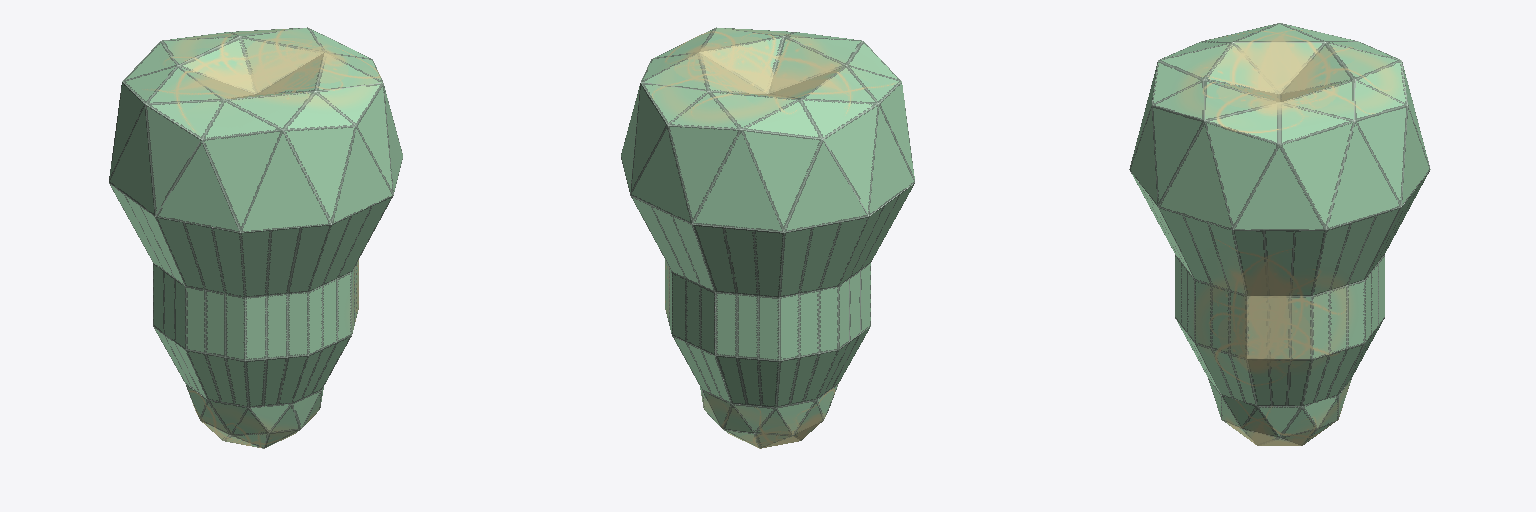
3 renders of one model, left to right at view 1: azimuth 30°, elevation 25°; view 2: azimuth 150°, elevation 25°; view 3: azimuth 270°, elevation 25°, orthographic.
Parts seen in each view (by area): view 1: Icosphere; view 2: Icosphere; view 3: Icosphere.
Part boxes in pixels (x1,y1,x2,y2): Icosphere: (109, 27, 402, 448); Icosphere: (621, 27, 914, 448); Icosphere: (1129, 23, 1430, 445).
Size of the model in its own units: 1.9 by 2.74 by 2.
1 materials, 1 textured.